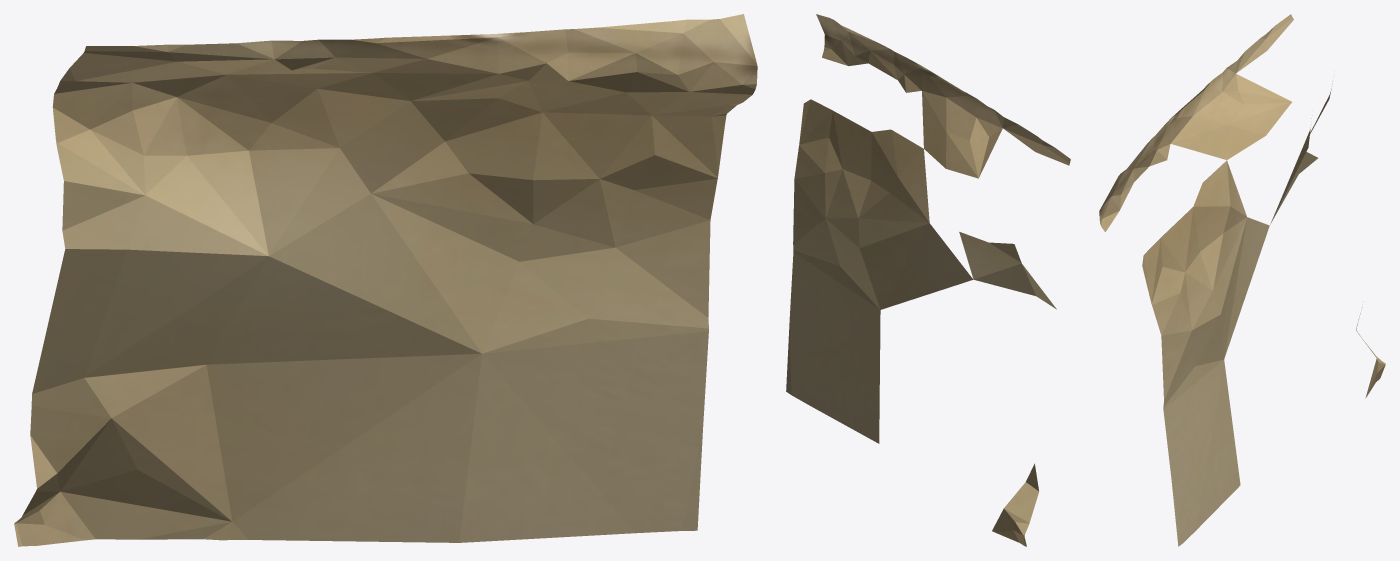
The picture shows the model from 3 angles, left to right: view 1: azimuth 30°, elevation 25°; view 2: azimuth 150°, elevation 25°; view 3: azimuth 270°, elevation 25°; orthographic projection. The views are drawn at different scales.
Bounding box in the file's own units: 0.8374 × 0.8374 × 0.5983.
Materials: 2 (2 with a texture image).
